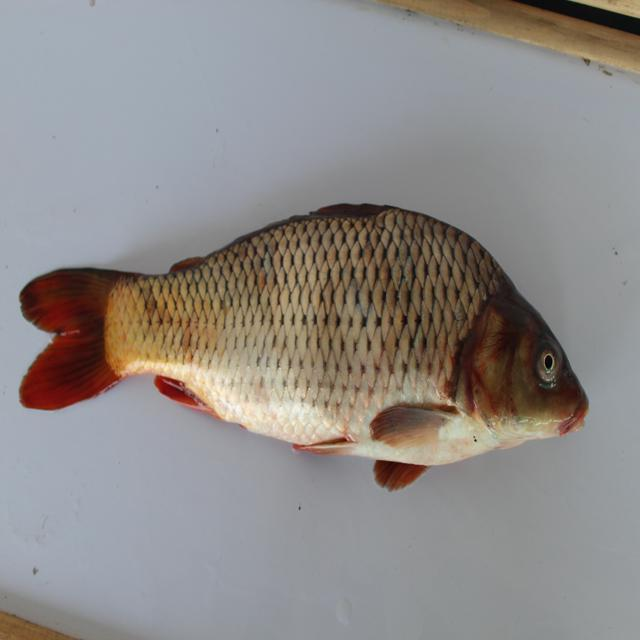CommonCarp: (10, 173, 617, 504)
